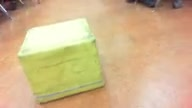cube: (17, 17, 104, 103)
